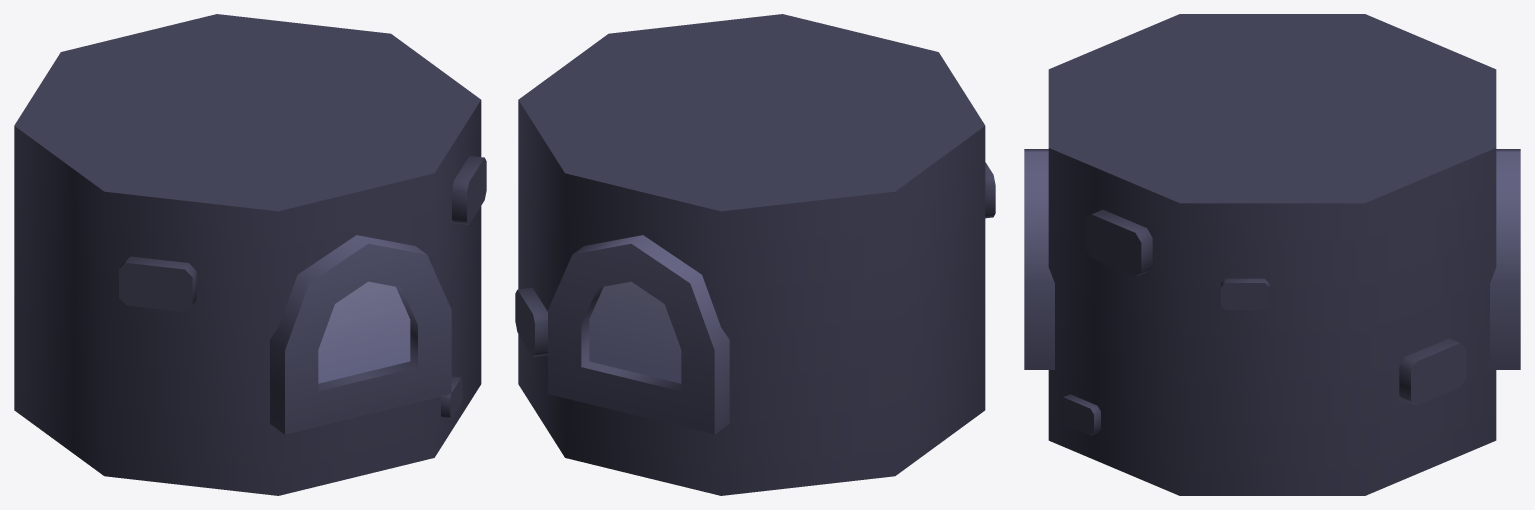
File: tower-middle-windows.fbx
3 renders of one model, left to right at view 1: azimuth 30°, elevation 25°; view 2: azimuth 150°, elevation 25°; view 3: azimuth 270°, elevation 25°, orthographic. The views are drawn at different scales.
Parts seen in each view (by area): view 1: tower-middle-windows; view 2: tower-middle-windows; view 3: tower-middle-windows.
Part boxes in pixels (<box>): tower-middle-windows: <box>14,14,486,495</box>; tower-middle-windows: <box>515,14,995,495</box>; tower-middle-windows: <box>1024,14,1520,495</box>.
Size of the model in its own units: 283 by 200 by 307.
